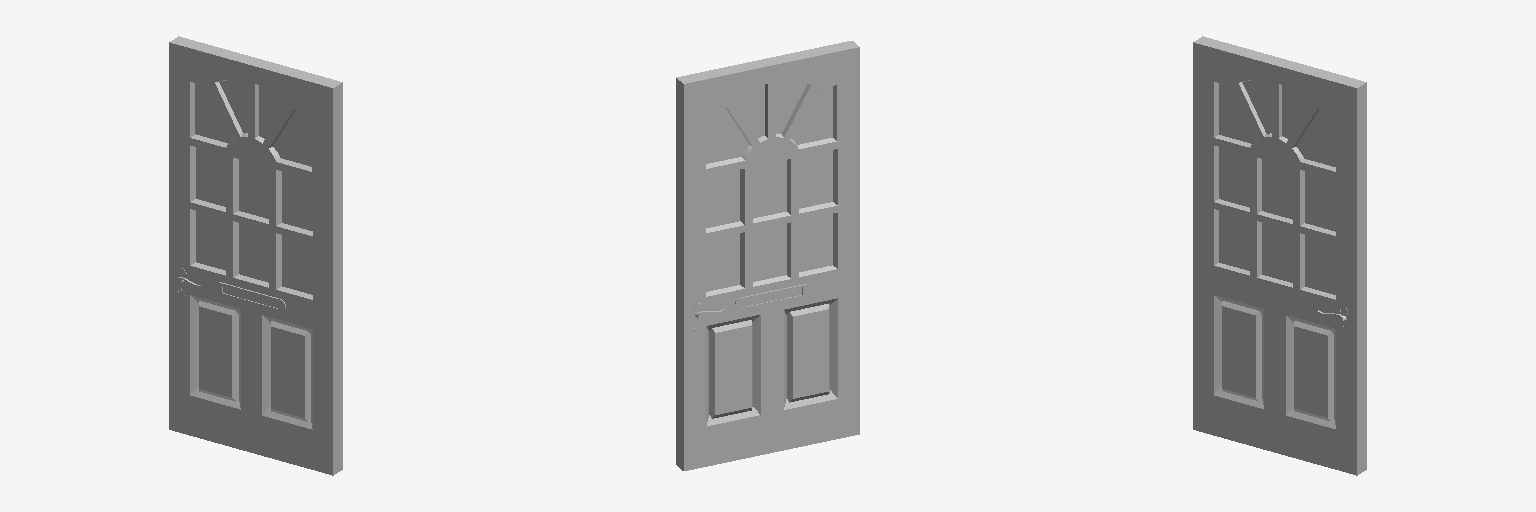
Rendered from door2_000012.obj.
The picture shows the model from 3 angles: view 1: azimuth 90°, elevation 25°; view 2: azimuth 150°, elevation 25°; view 3: azimuth 270°, elevation 25°; orthographic projection.
Parts seen in each view (by area): view 1: Door.000_Door.004; view 2: Door.000_Door.004; view 3: Door.000_Door.004.
Boxes of the visible parts, box(x1,y1,x2,y2) form: Door.000_Door.004: box(169, 36, 342, 475); Door.000_Door.004: box(676, 41, 859, 470); Door.000_Door.004: box(1193, 36, 1366, 475).
Bounding box in the file's own units: 0.4625 × 1.6 × 0.6524.